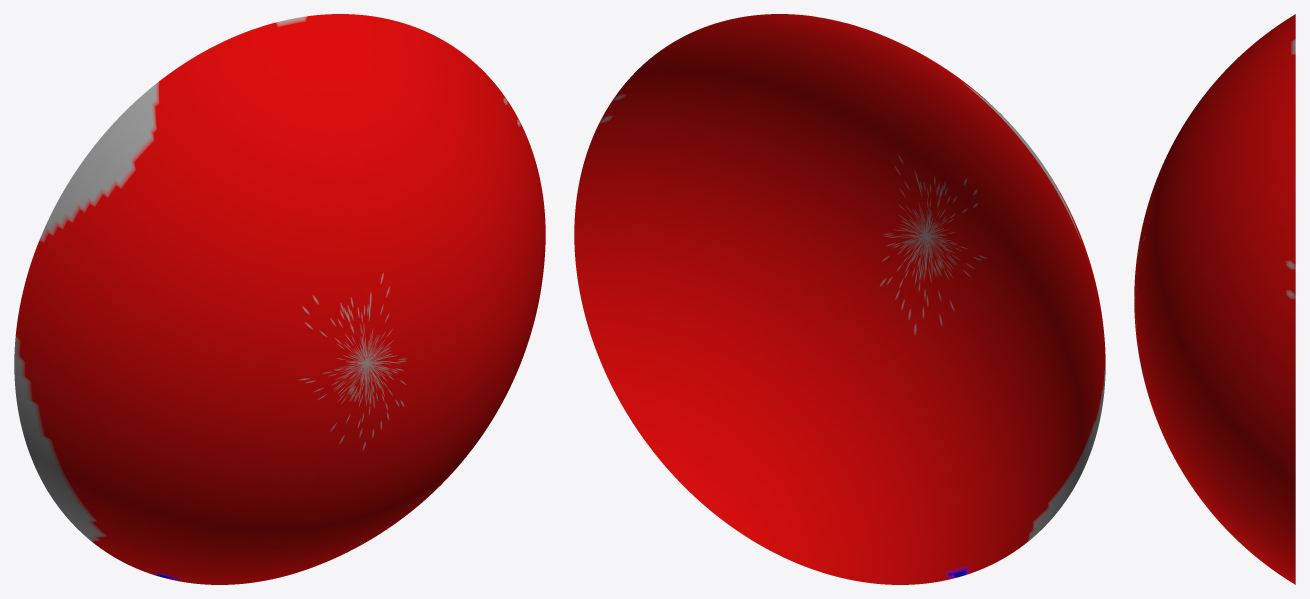
Rendered from dome_sky_model.glb.
3 views of the same model, side by side, from view 1: azimuth 30°, elevation 25°; view 2: azimuth 150°, elevation 25°; view 3: azimuth 270°, elevation 25° (orthographic). The views are drawn at different scales.
Visible parts, largest first — view 1: world; view 2: world; view 3: world.
Part boxes in pixels (<box>): world: <box>14,14,545,584</box>; world: <box>574,14,1105,584</box>; world: <box>1134,14,1295,584</box>.
Bounding box in the file's own units: 85.72 × 85.72 × 24.25.
